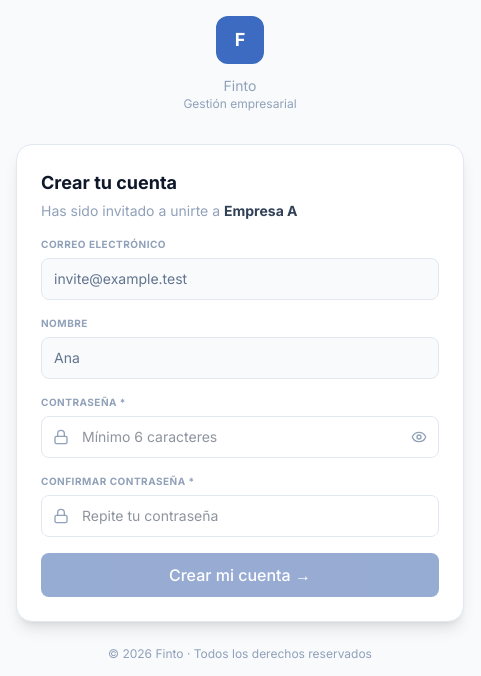
conserva el registro de una cuenta nueva sin exigir una sesión
Type "new-password" into the password field with placeholder "Mínimo 6 caracteres" at (240, 437), box x1=41 y1=416 x2=439 y2=458
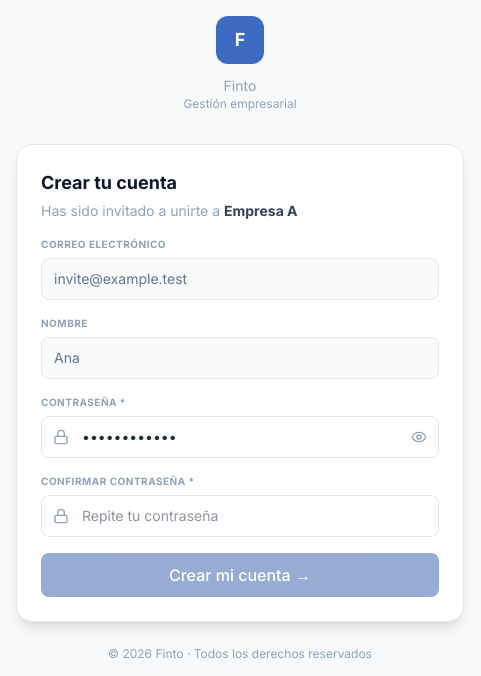
Type "new-password" into the password field with placeholder "Repite tu contraseña" at (240, 516), box x1=41 y1=495 x2=439 y2=537
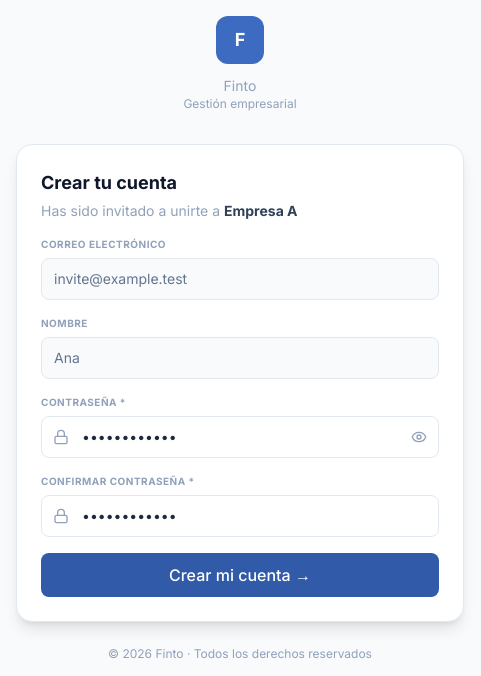
Click the button "Crear mi cuenta →" at (240, 575), box x1=41 y1=553 x2=439 y2=597
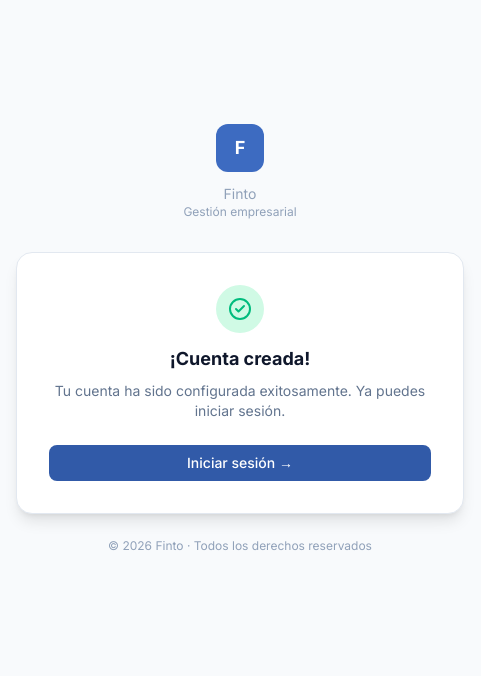
Expected: the heading "¡Cuenta creada!" is shown, x1=170 y1=348 x2=310 y2=369
